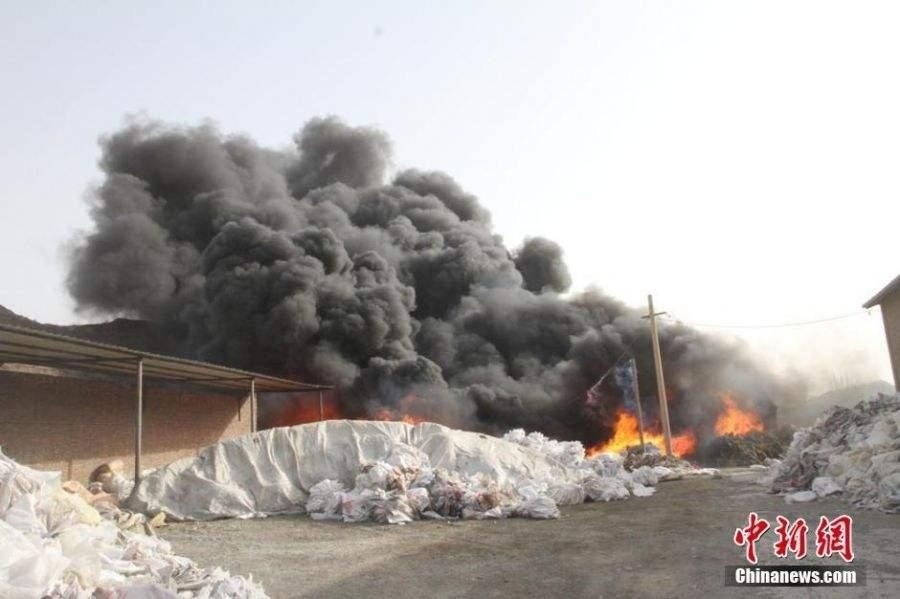fire: (585, 391, 771, 459), (588, 410, 693, 458), (712, 396, 764, 436)
